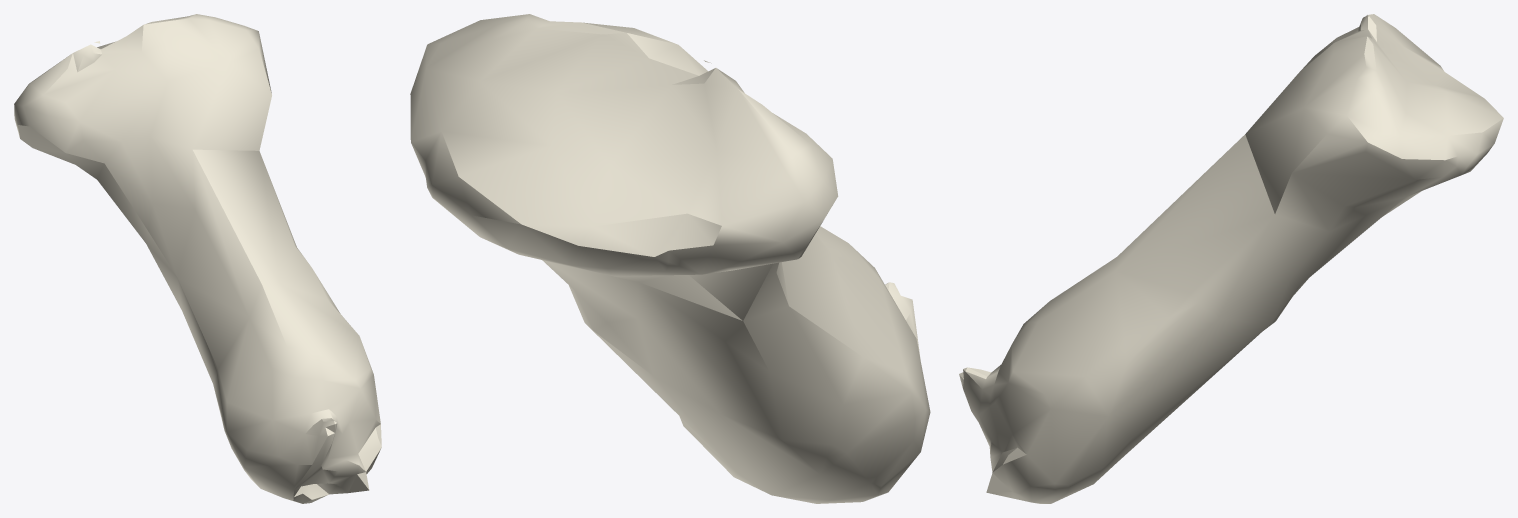
The model's file is fma24463.glb.
3 renders of one model, left to right at view 1: azimuth 30°, elevation 25°; view 2: azimuth 150°, elevation 25°; view 3: azimuth 270°, elevation 25°, orthographic. The views are drawn at different scales.
Parts seen in each view (by area): view 1: FMA24463; view 2: FMA24463; view 3: FMA24463.
Boxes of the visible parts, <box> form: FMA24463: <box>14,14,381,503</box>; FMA24463: <box>410,14,930,503</box>; FMA24463: <box>959,14,1503,503</box>.
Bounding box in the file's own units: 0.00835 × 0.0128 × 0.0143.
